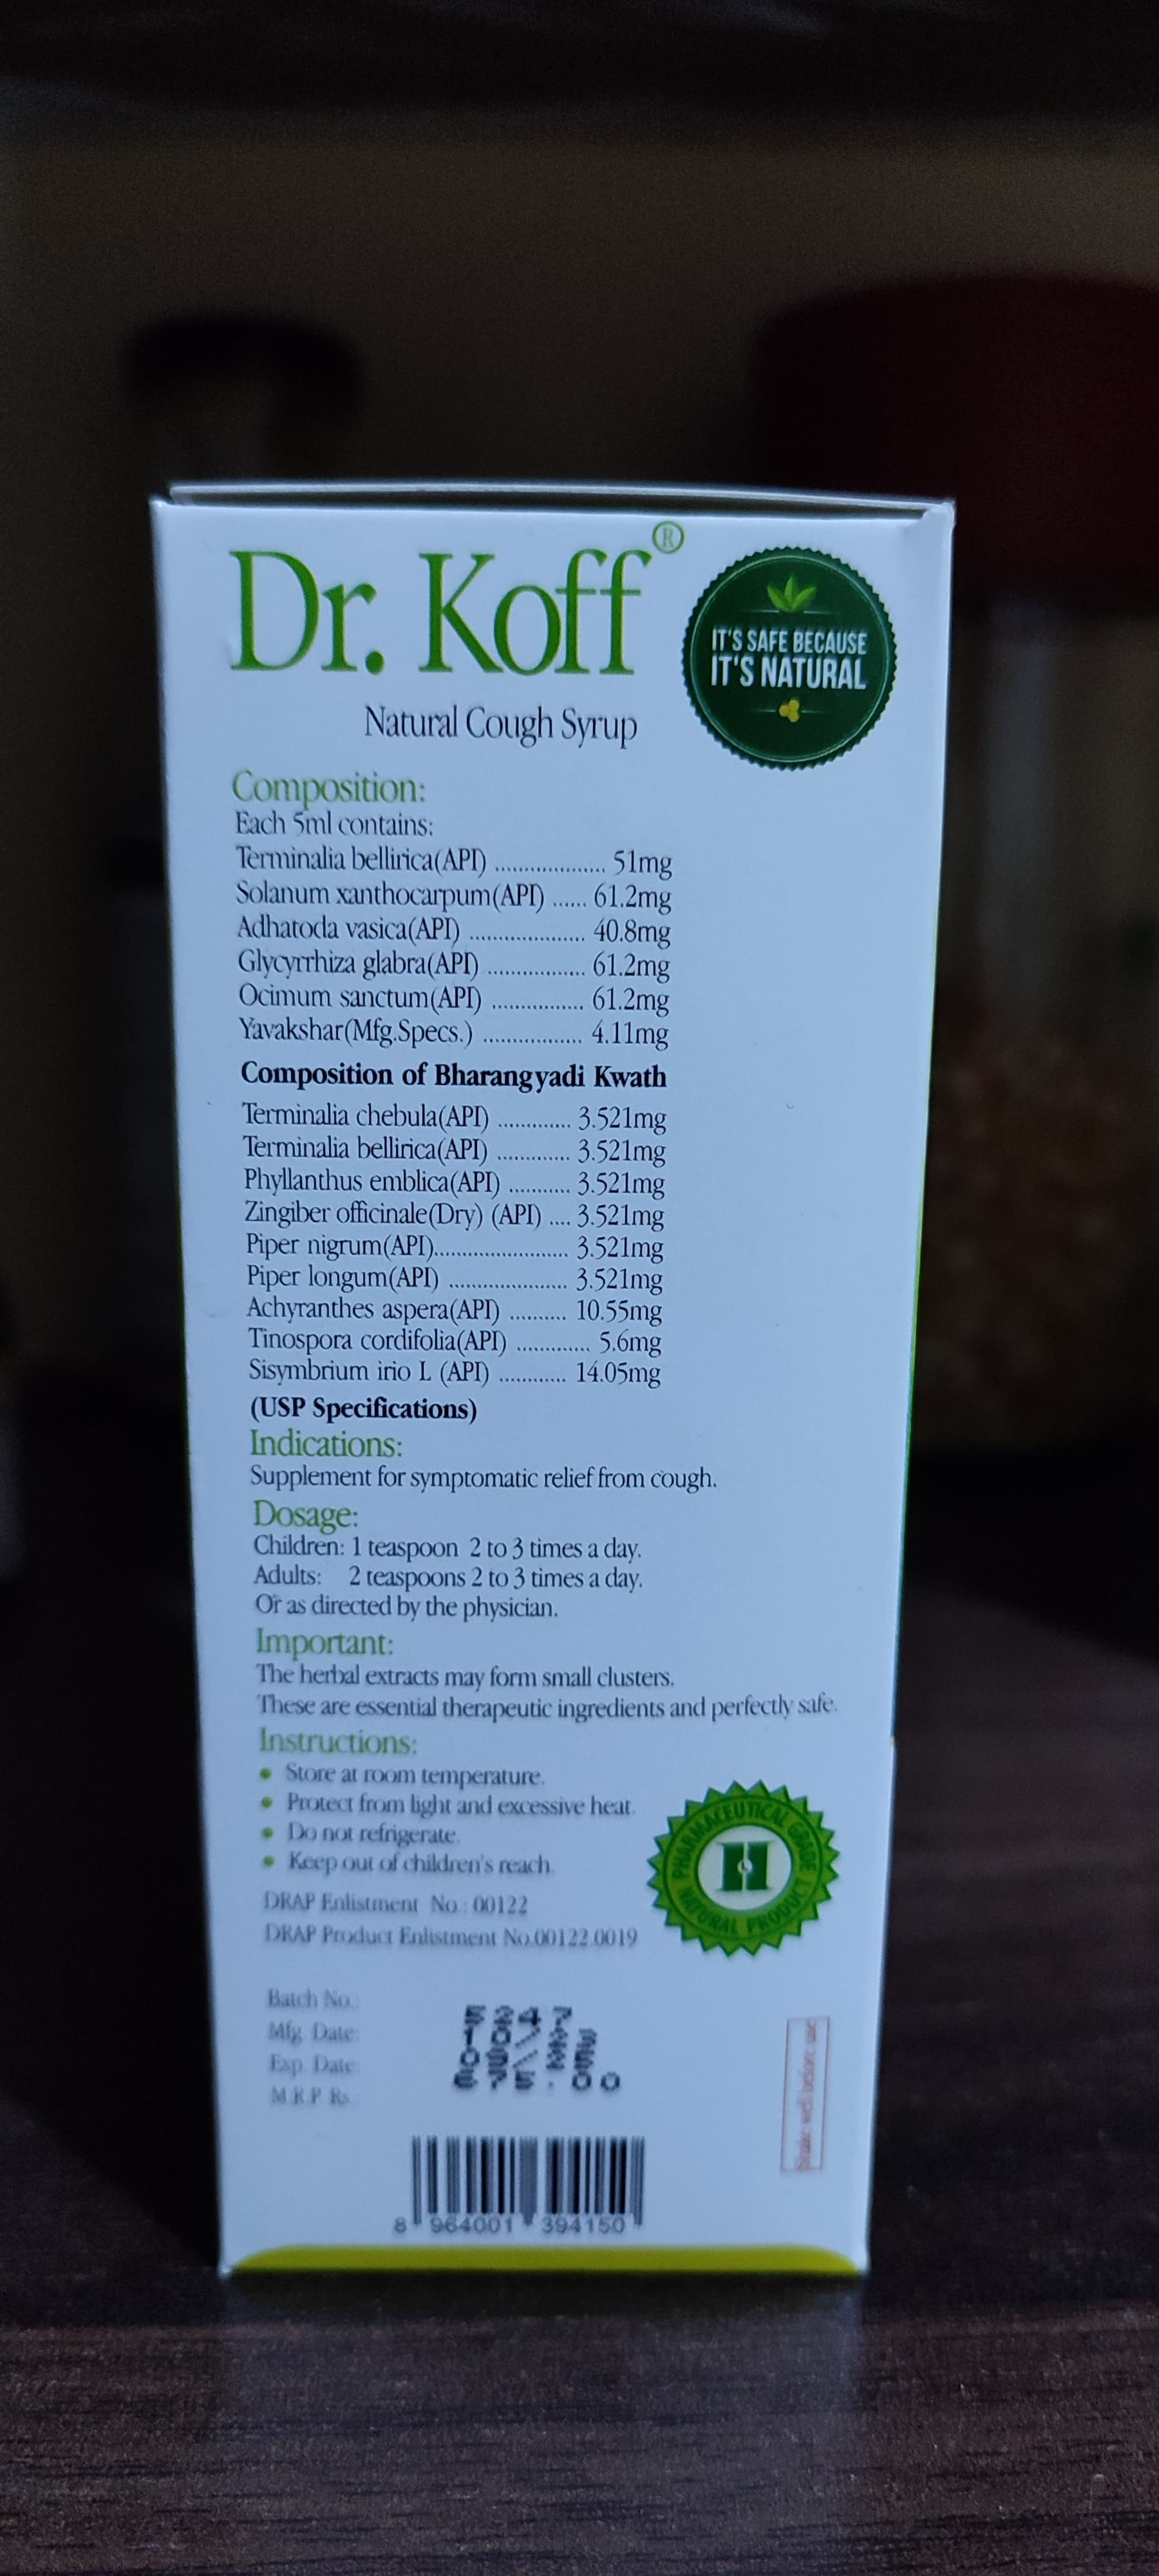table: (215, 749, 694, 1405)
